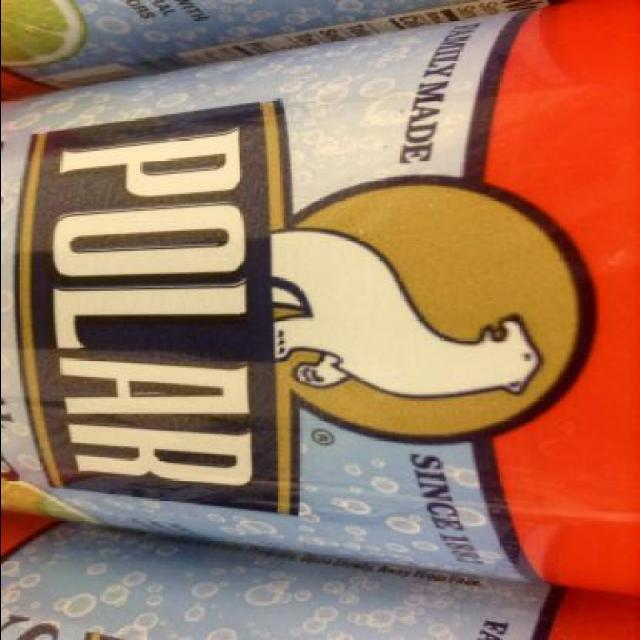Lemon: (0, 0, 84, 69)
